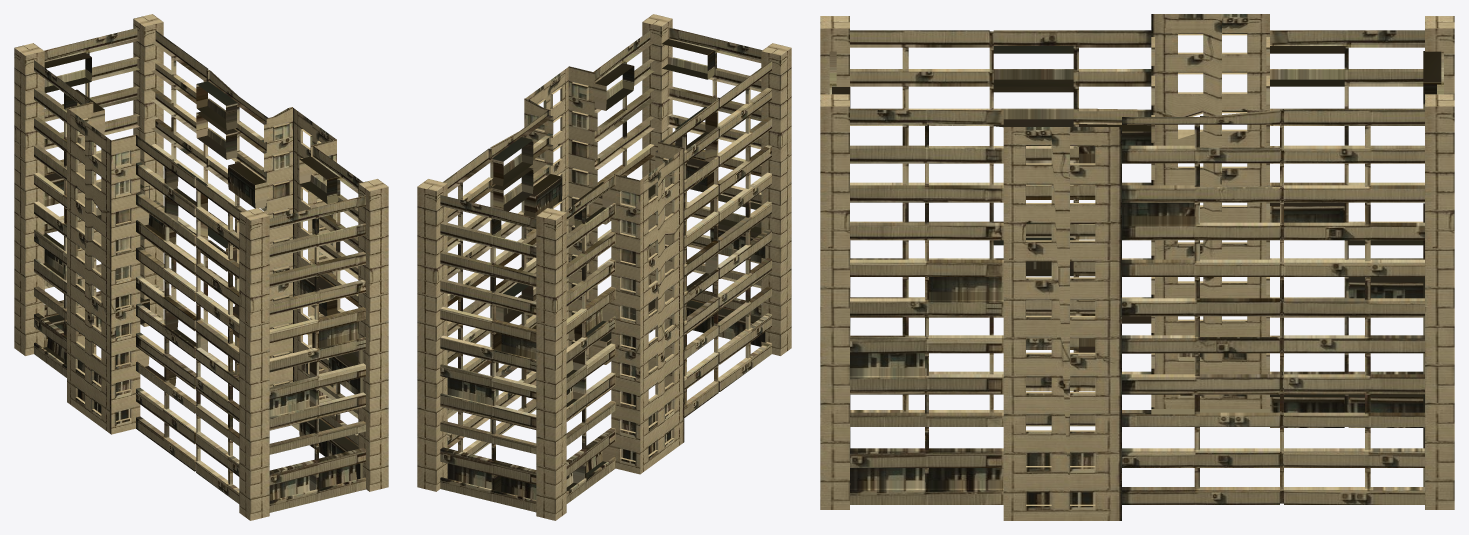
3 renders of one model, left to right at view 1: azimuth 30°, elevation 25°; view 2: azimuth 150°, elevation 25°; view 3: azimuth 270°, elevation 25°, orthographic. The views are drawn at different scales.
Visible parts, largest first — view 1: Cube.002_Material.001_0; view 2: Cube.002_Material.001_0; view 3: Cube.002_Material.001_0.
Boxes of the visible parts, left/top/right/bottom form: Cube.002_Material.001_0: left=14, top=14, right=388, bottom=520; Cube.002_Material.001_0: left=417, top=14, right=791, bottom=520; Cube.002_Material.001_0: left=820, top=14, right=1454, bottom=520.
Bounding box in the file's own units: 1.48 × 2.48 × 3.54.
Materials: 1 (1 with a texture image).
